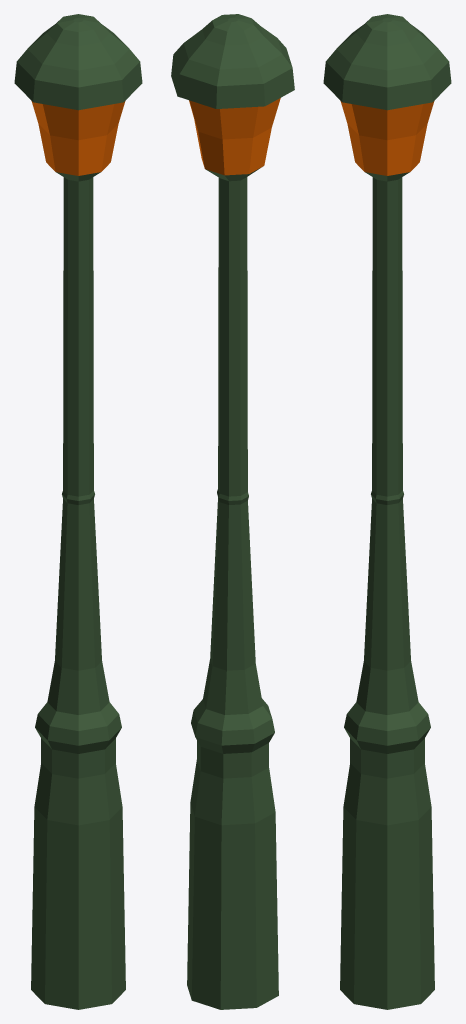
The model's file is lampadaire.FBX.
3 views of the same model, side by side, from view 1: azimuth 90°, elevation 25°; view 2: azimuth 210°, elevation 25°; view 3: azimuth 270°, elevation 25° (orthographic).
Visible parts, largest first — view 1: Cylinder001; view 2: Cylinder001; view 3: Cylinder001.
Part boxes in pixels (x1,y1,x2,y2): Cylinder001: (14, 14, 142, 1009); Cylinder001: (171, 14, 294, 1009); Cylinder001: (323, 14, 451, 1009).
Bounding box in the file's own units: 14.58 × 122 × 14.58.
